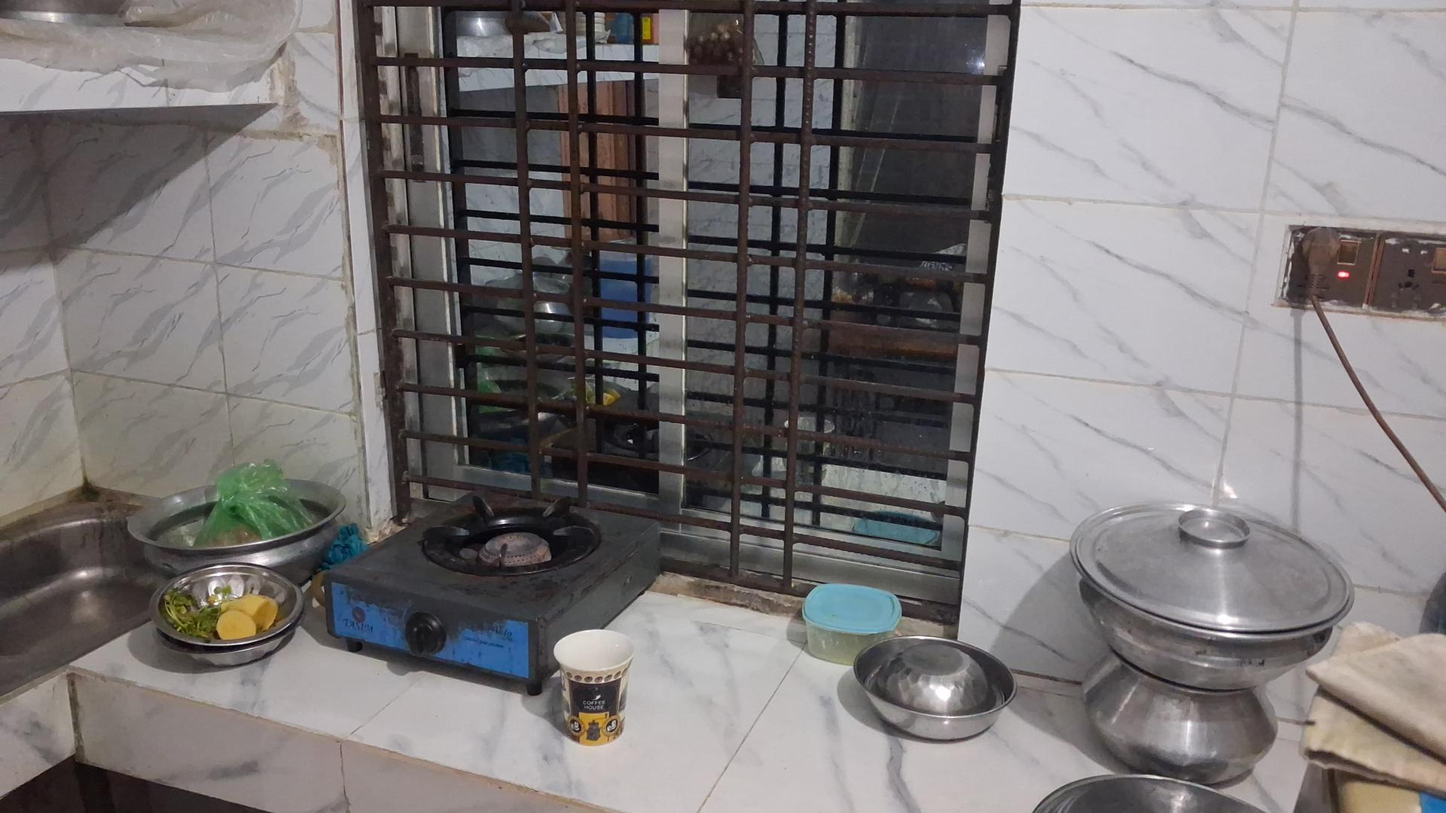Bowl: (853, 636, 1017, 743), (151, 563, 305, 664)
Cup: (550, 629, 635, 747)
Food: (185, 583, 287, 645)
Jar: (802, 582, 903, 663)
Pot: (1070, 492, 1348, 699), (1075, 652, 1272, 788), (127, 476, 346, 585)
